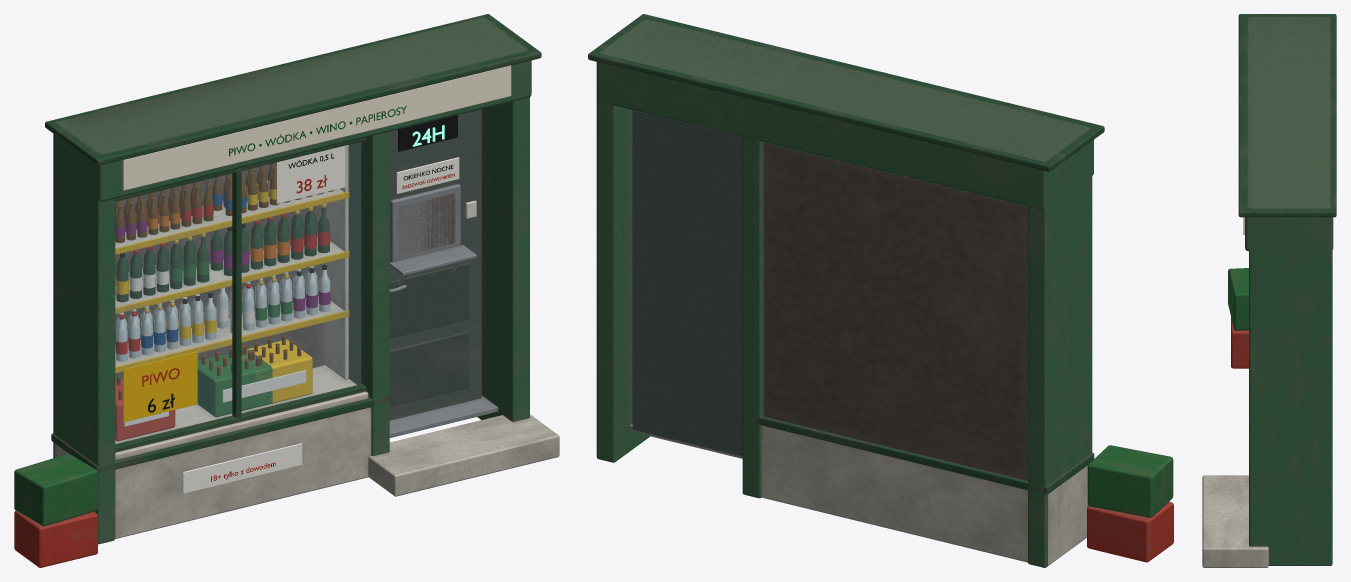
File: monopolowy_witryna.glb
3 renders of one model, left to right at view 1: azimuth 30°, elevation 25°; view 2: azimuth 150°, elevation 25°; view 3: azimuth 270°, elevation 25°, orthographic. The views are drawn at different scales.
Parts seen in each view (by area): view 1: Witryna, Butelki, Szyby, Napisy, NeonRamka; view 2: Witryna; view 3: Witryna.
Boxes of the visible parts, box(x1,y1,x2,y2) form: Witryna: box(14, 14, 559, 567); Butelki: box(115, 65, 511, 493); Szyby: box(115, 142, 360, 443); Napisy: box(142, 105, 454, 481); NeonRamka: box(398, 115, 457, 151); Witryna: box(588, 14, 1173, 567); Witryna: box(1202, 14, 1336, 567).
Bounding box in the file's own units: 3.41 × 2.5 × 0.85.
26 materials, 1 textured.
